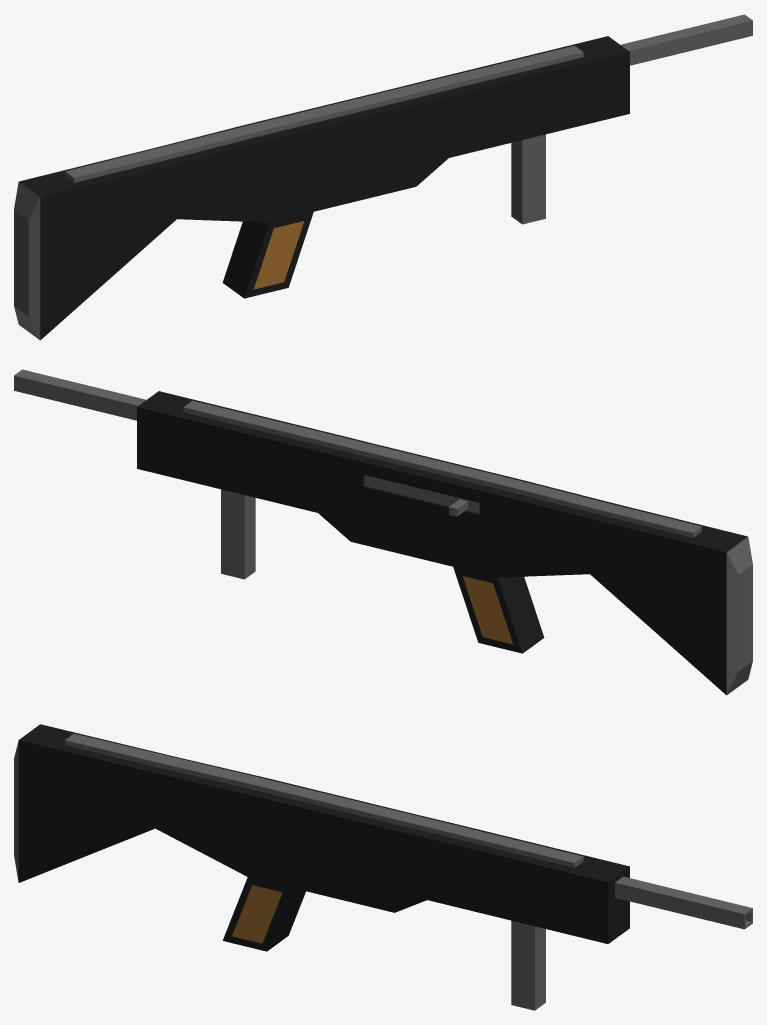
The model's file is TestGun.fbx.
3 renders of one model, top to bottom at view 1: azimuth 30°, elevation 25°; view 2: azimuth 150°, elevation 25°; view 3: azimuth 330°, elevation 25°, orthographic.
Visible parts, largest first — view 1: Cube; view 2: Cube; view 3: Cube.
Boxes of the visible parts, <box> form: Cube: <box>14,14,752,340</box>; Cube: <box>14,369,752,695</box>; Cube: <box>14,724,752,1010</box>.
Bounding box in the file's own units: 61.86 × 12.8 × 4.61.
Materials: 1 (1 with a texture image).
